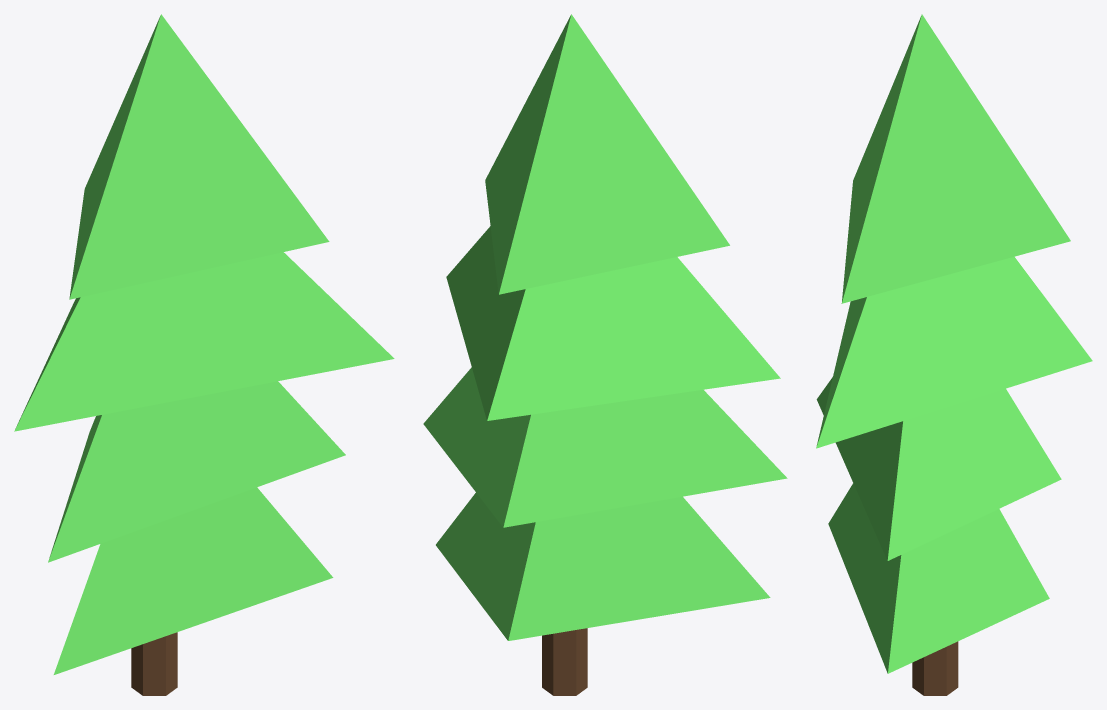
Rendered from model-scenario-static-cutscene-prologue-tree.fbx.
3 renders of one model, left to right at view 1: azimuth 30°, elevation 25°; view 2: azimuth 150°, elevation 25°; view 3: azimuth 270°, elevation 25°, orthographic.
Visible parts, largest first — view 1: cutscene_tree; view 2: cutscene_tree; view 3: cutscene_tree.
Boxes of the visible parts, <box> form: cutscene_tree: <box>14,14,394,695</box>; cutscene_tree: <box>423,14,787,695</box>; cutscene_tree: <box>816,14,1092,695</box>.
Size of the model in its own units: 4.83 by 7.2 by 12.97.
Materials: 1 (1 with a texture image).
